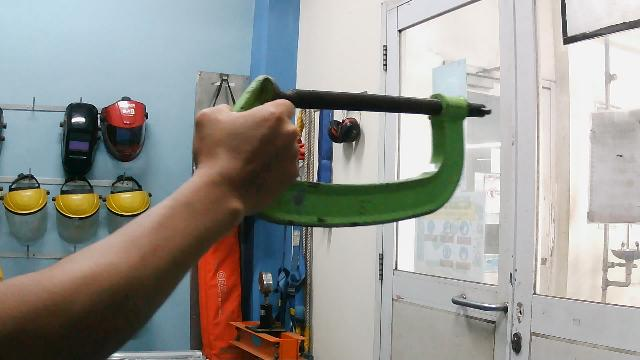tekiro_c_clamp: (209, 66, 494, 230)
